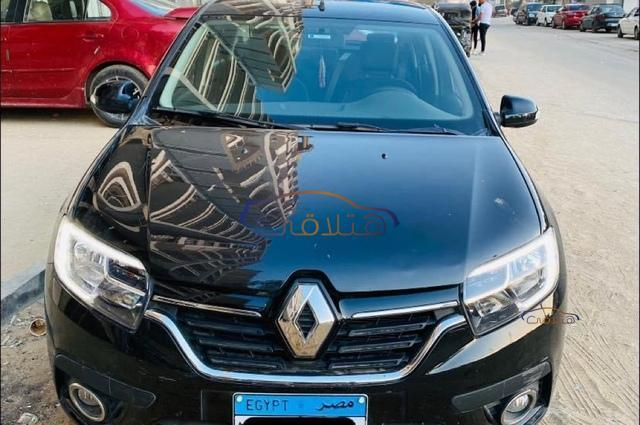Renault: (262, 271, 347, 369)
